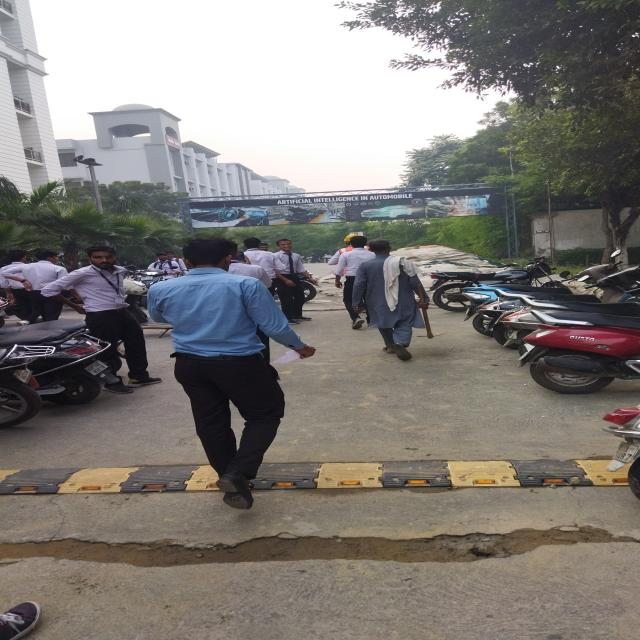unsafe: (153, 236, 297, 506), (70, 245, 154, 392), (364, 239, 436, 360), (268, 237, 316, 325), (22, 250, 68, 322), (336, 234, 368, 325)
